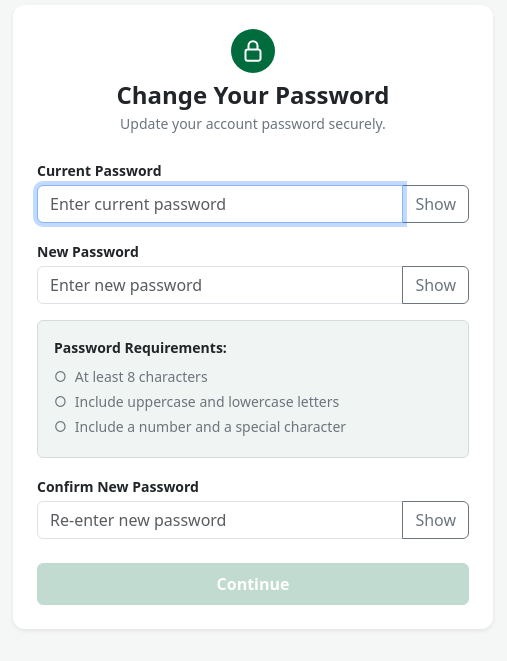
Test: Mandatory Password Change Screen Tests (Lab 3) › UI-09: displays mismatch error and keeps submit button disabled when passwords do not match
This screenshot has width=507, height=661.
Check: the heading "Change Your Password" is shown, box [116,78,389,111]
Type "OldPassword123!" into the password field labelled "Current Password" at (220, 204), box [37,185,403,223]
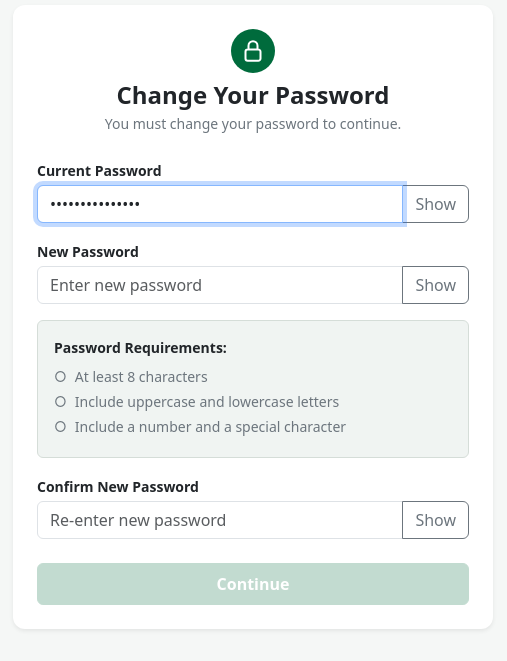
Type "NewSecurePass123!" into the password field labelled "New Password" at (220, 285), box [37,266,403,304]
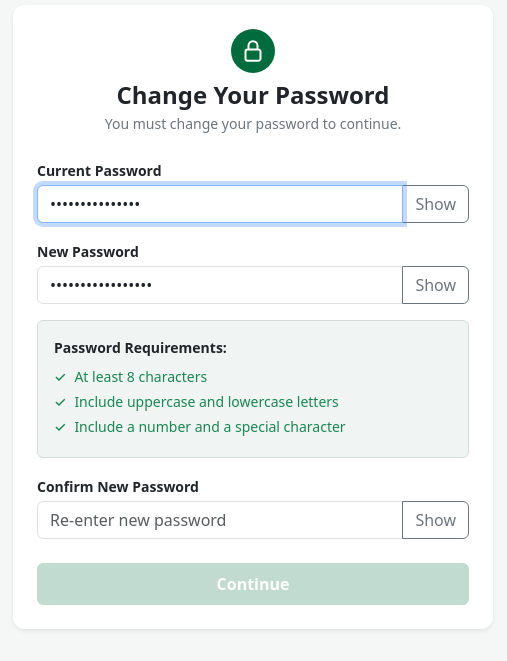
Type "MismatchedPass123!" into the password field labelled "Confirm New Password" at (220, 520), box [37,501,403,539]
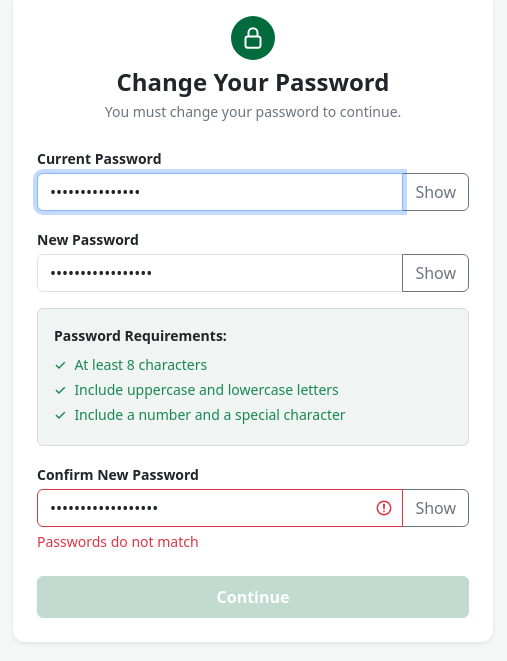
Check: the button "Continue" is disabled, box [37,576,469,618]
Check: the text "Passwords do not match" is shown, box [37,532,199,551]
